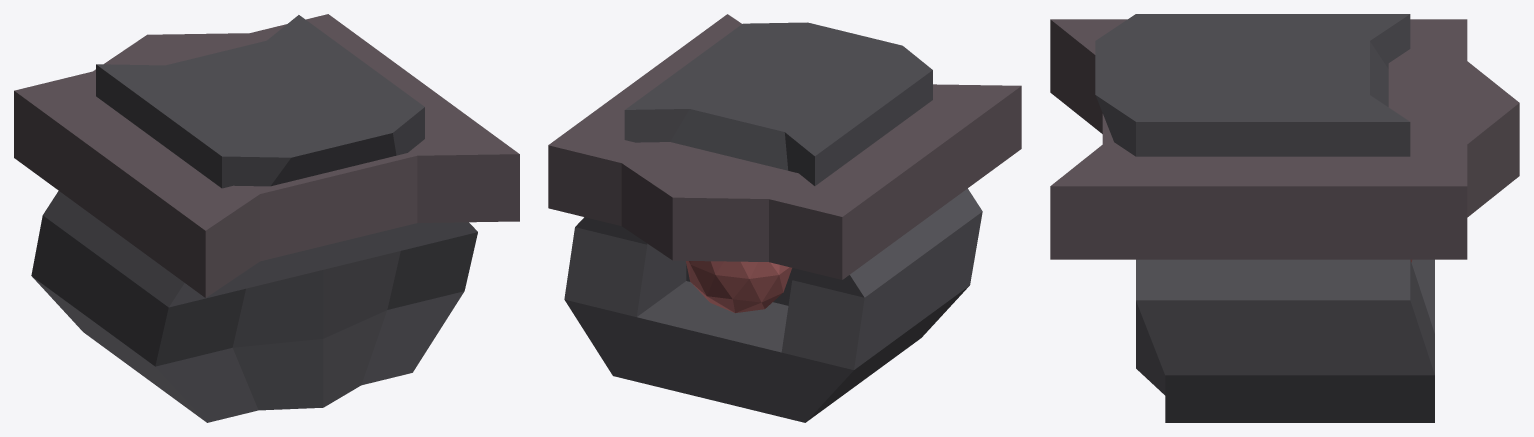
Rendered from BossMechHead.gltf.
3 views of the same model, side by side, from view 1: azimuth 30°, elevation 25°; view 2: azimuth 150°, elevation 25°; view 3: azimuth 270°, elevation 25° (orthographic). The views are drawn at different scales.
Visible parts, largest first — view 1: ICO球; view 2: ICO球; view 3: ICO球.
Part boxes in pixels (x1,y1,x2,y2): ICO球: (14, 14, 519, 422); ICO球: (548, 14, 1021, 422); ICO球: (1050, 14, 1519, 422).
Size of the model in its own units: 0.7352 by 0.6172 by 0.8736.
